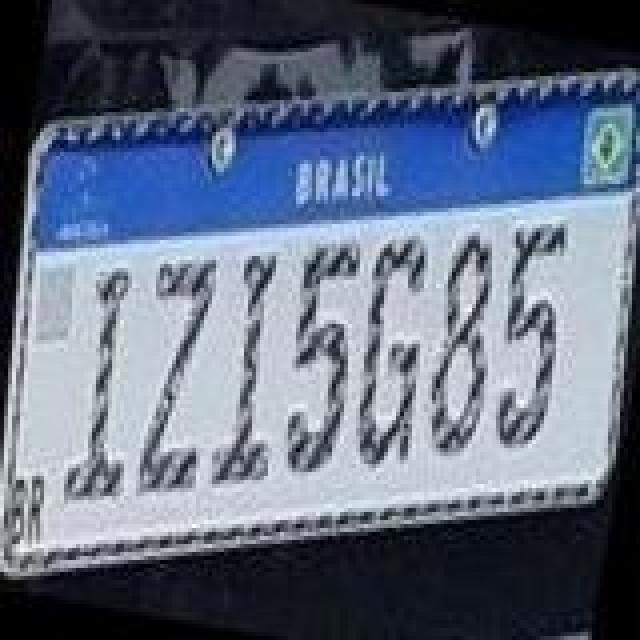5: (264, 230, 376, 482), (474, 210, 582, 454)
8: (412, 222, 516, 466)
G: (336, 226, 448, 478)
I: (54, 258, 162, 510), (204, 242, 308, 494)
Z: (118, 246, 234, 506)
